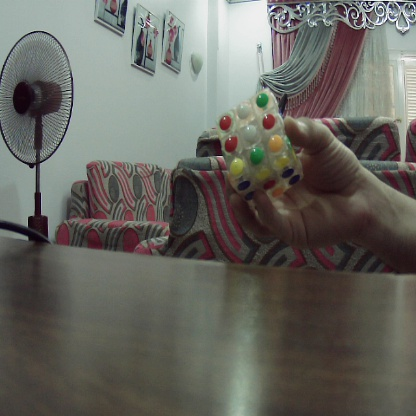Rubix Cube: (217, 98, 302, 196)
